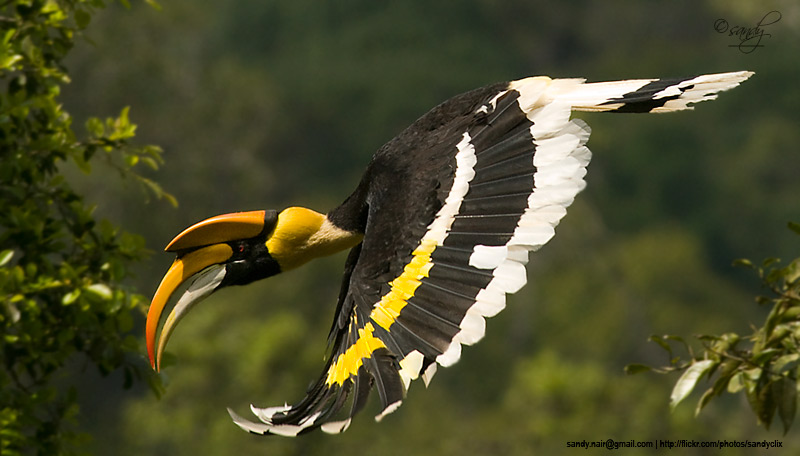bird: (128, 48, 764, 442)
